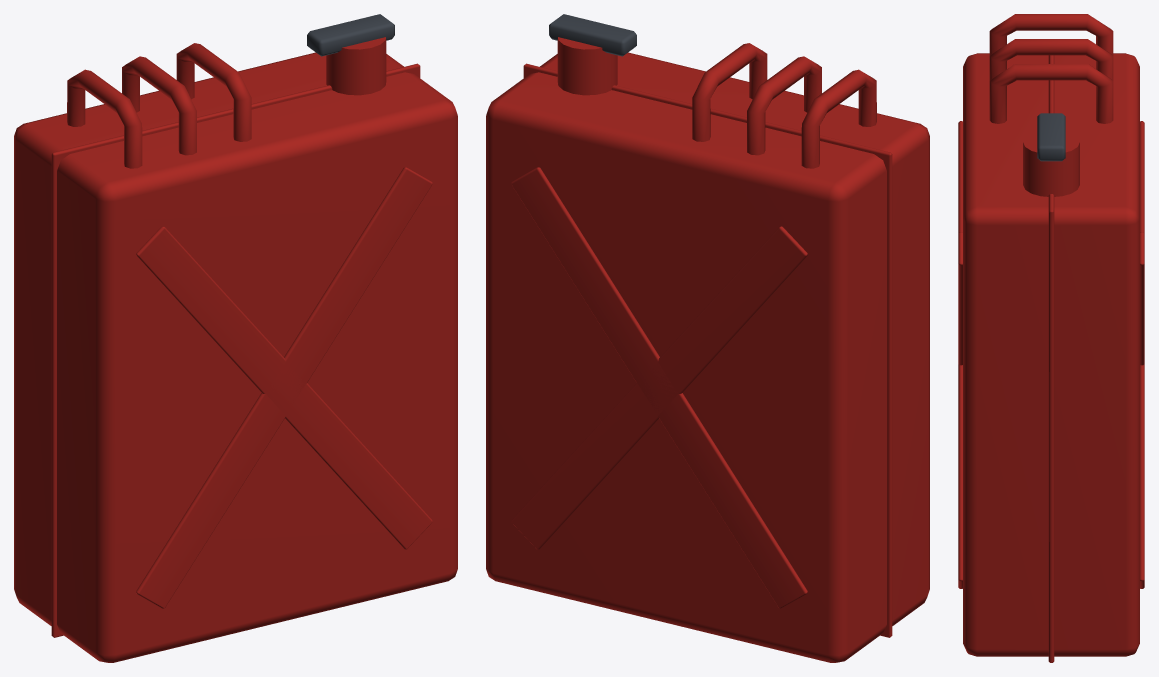
The model's file is vuena-gs-jerry-can.glb.
3 views of the same model, side by side, from view 1: azimuth 30°, elevation 25°; view 2: azimuth 150°, elevation 25°; view 3: azimuth 270°, elevation 25° (orthographic). The views are drawn at different scales.
Parts seen in each view (by area): view 1: gs_jerry_can; view 2: gs_jerry_can; view 3: gs_jerry_can.
Boxes of the visible parts, x1,y1,x2,y2 form: gs_jerry_can: (14, 14, 457, 662); gs_jerry_can: (486, 14, 929, 662); gs_jerry_can: (958, 14, 1144, 662).
Size of the model in its own units: 0.336 by 0.4724 by 0.158.
